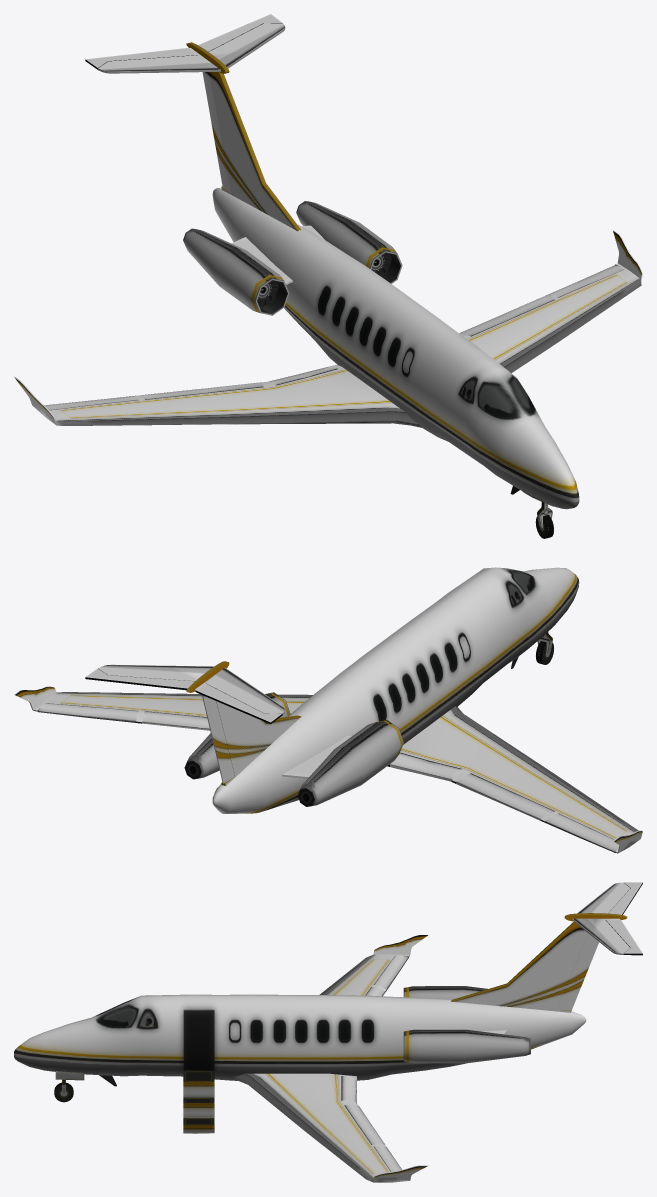
The picture shows the model from 3 angles, top to bottom: view 1: azimuth 30°, elevation 25°; view 2: azimuth 150°, elevation 25°; view 3: azimuth 270°, elevation 25°; orthographic projection. The views are drawn at different scales.
Visible parts, largest first — view 1: body, elevator, tail, flap_l; view 2: body, elevator, flap_r, tail, ailron_l, flap_r_01, ailron_r, flap_l, front_gear; view 3: body, door, tail, elevator, flap_l, ailron_r.
Boxes of the visible parts, box(x1,y1,x2,y2) form: body: box(14, 23, 642, 509); elevator: box(85, 14, 282, 69); tail: box(202, 72, 230, 193); flap_l: box(459, 297, 554, 336); body: box(14, 567, 642, 853); elevator: box(85, 668, 282, 724); flap_r: box(456, 773, 554, 820); tail: box(202, 695, 234, 783); ailron_l: box(37, 703, 138, 722); flap_r_01: box(390, 752, 461, 781); ailron_r: box(544, 813, 618, 852); flap_l: box(142, 711, 210, 730); front_gear: box(536, 632, 553, 664); body: box(14, 882, 630, 1182); door: box(183, 1071, 214, 1133); tail: box(556, 933, 598, 1010); elevator: box(605, 882, 642, 955); flap_l: box(344, 1104, 384, 1144); ailron_r: box(373, 955, 408, 990).
Bounding box in the file's own units: 2.27 × 0.8957 × 2.61.
